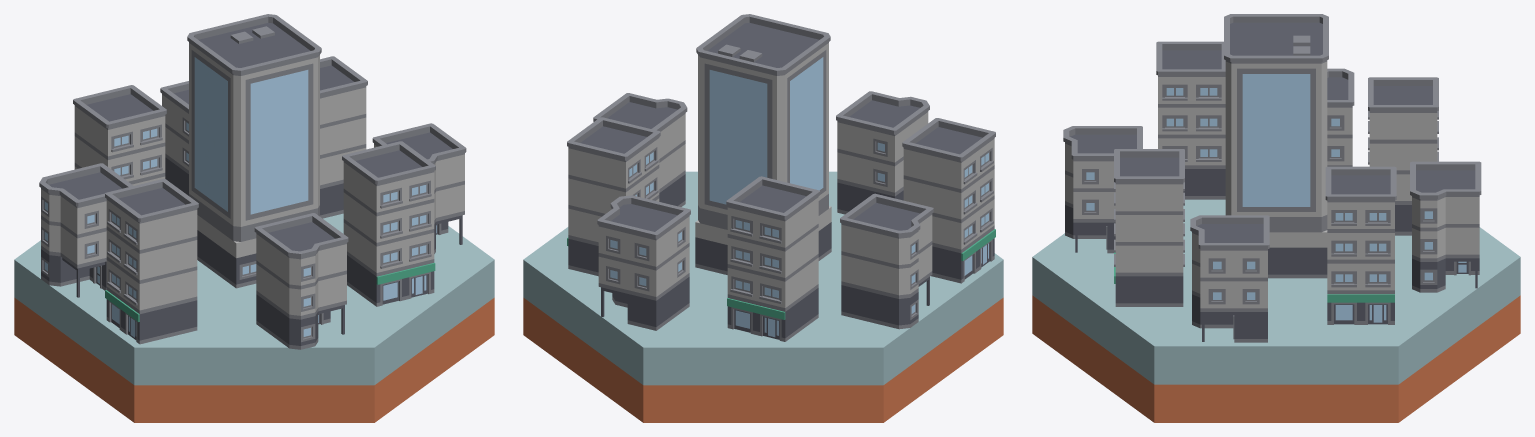
The model's file is humanTile.glb.
3 views of the same model, side by side, from view 1: azimuth 30°, elevation 25°; view 2: azimuth 150°, elevation 25°; view 3: azimuth 270°, elevation 25° (orthographic).
Parts seen in each view (by area): view 1: mergedBlocks(Clone); view 2: mergedBlocks(Clone); view 3: mergedBlocks(Clone).
Part boxes in pixels (box(x1,y1,x2,y2)): mergedBlocks(Clone): box(14, 14, 494, 422); mergedBlocks(Clone): box(523, 14, 1003, 422); mergedBlocks(Clone): box(1032, 14, 1520, 422).
Size of the model in its own units: 1 by 0.776 by 1.15.
